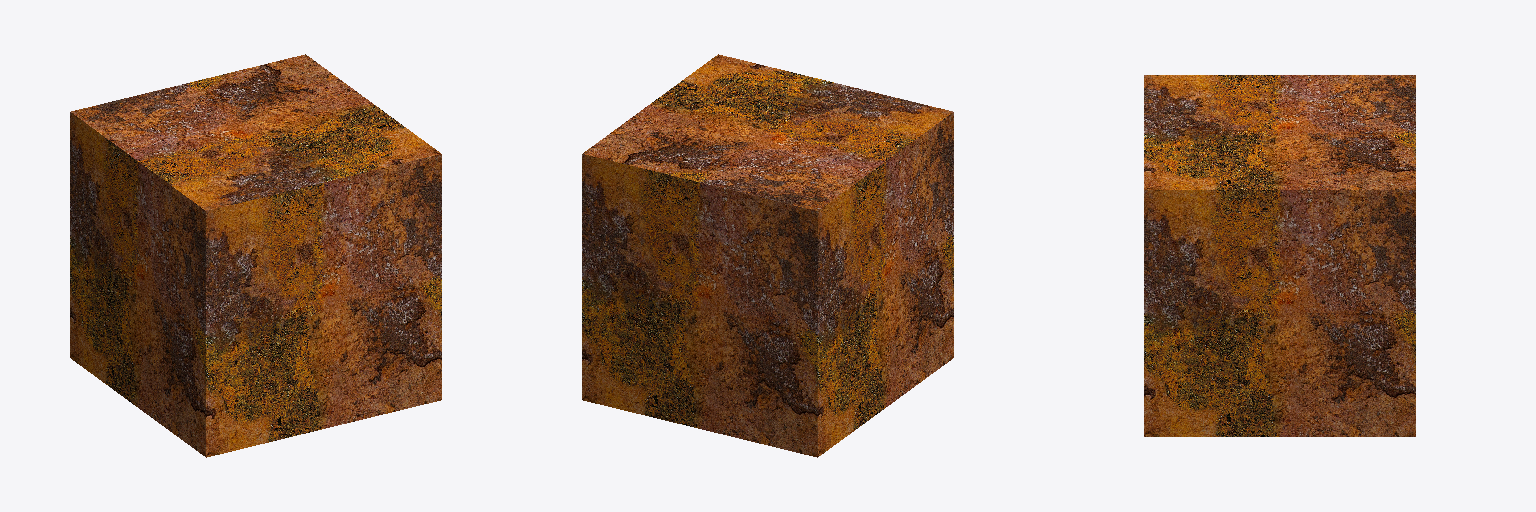
3 views of the same model, side by side, from view 1: azimuth 30°, elevation 25°; view 2: azimuth 150°, elevation 25°; view 3: azimuth 270°, elevation 25° (orthographic).
Parts seen in each view (by area): view 1: Cube; view 2: Cube; view 3: Cube.
Part boxes in pixels (bbox=[...]): Cube: bbox=[70, 54, 441, 457]; Cube: bbox=[582, 54, 953, 457]; Cube: bbox=[1144, 75, 1415, 436].
Size of the model in its own units: 2 by 2 by 2.
Materials: 1 (1 with a texture image).